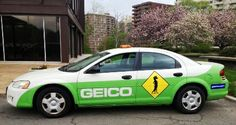Geico: (79, 86, 134, 97)
